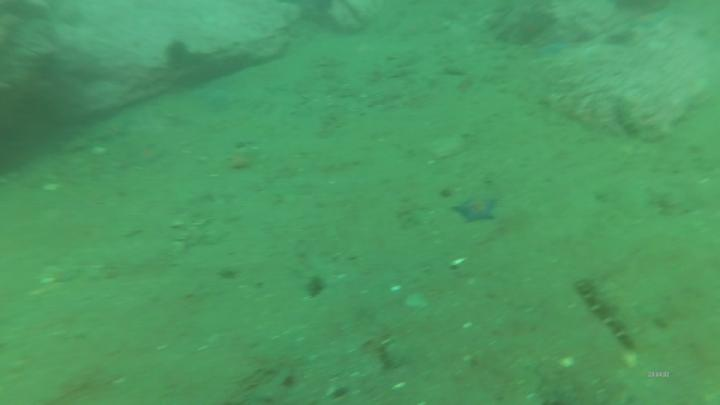echinus: (163, 38, 196, 71)
holothurian: (573, 274, 642, 353)
starfish: (452, 191, 501, 227)
